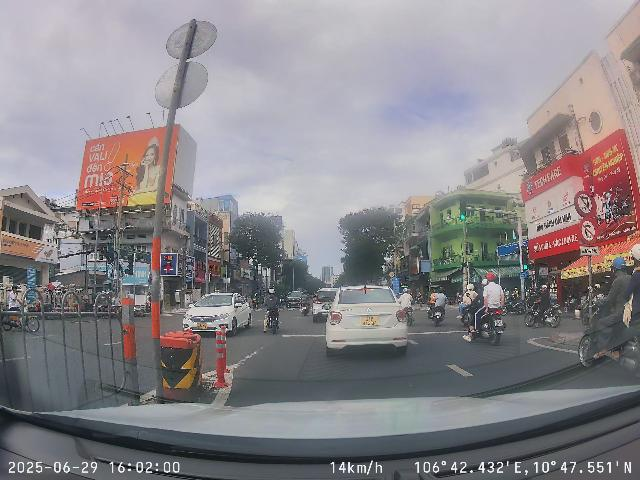103b-cam-oto-re-phai: (579, 217, 597, 244)
103c-cam-oto-re-trai: (575, 190, 594, 217)
